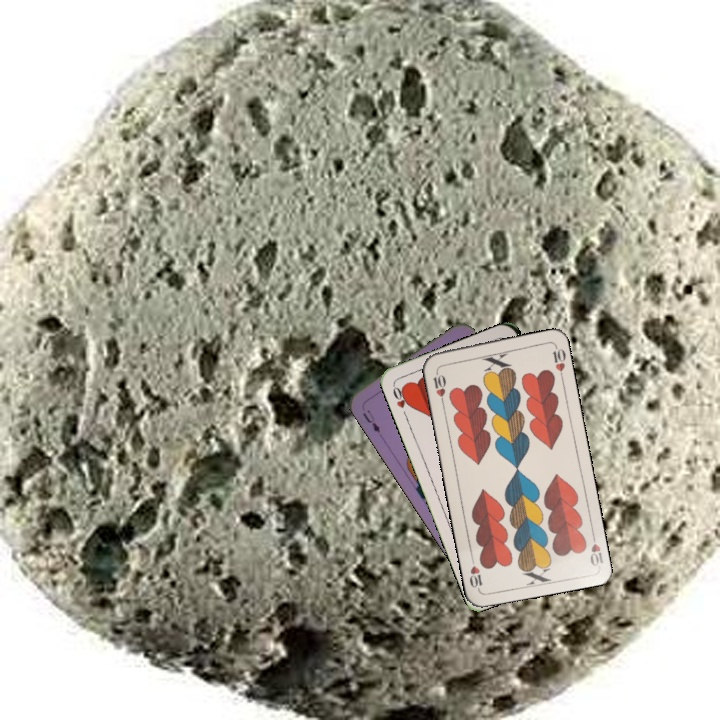EU: (359, 406, 383, 436)
H10: (586, 528, 606, 569), (429, 366, 448, 406)
HO: (389, 382, 414, 421)
